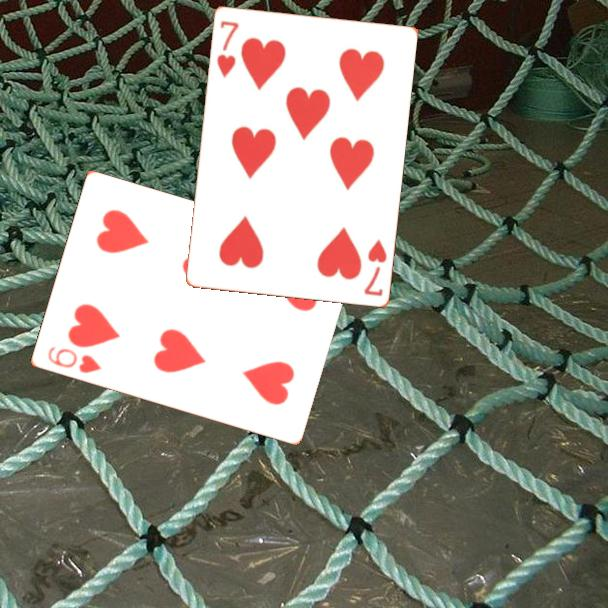h06: (44, 343, 104, 376)
h07: (360, 235, 389, 299), (213, 17, 241, 80)
